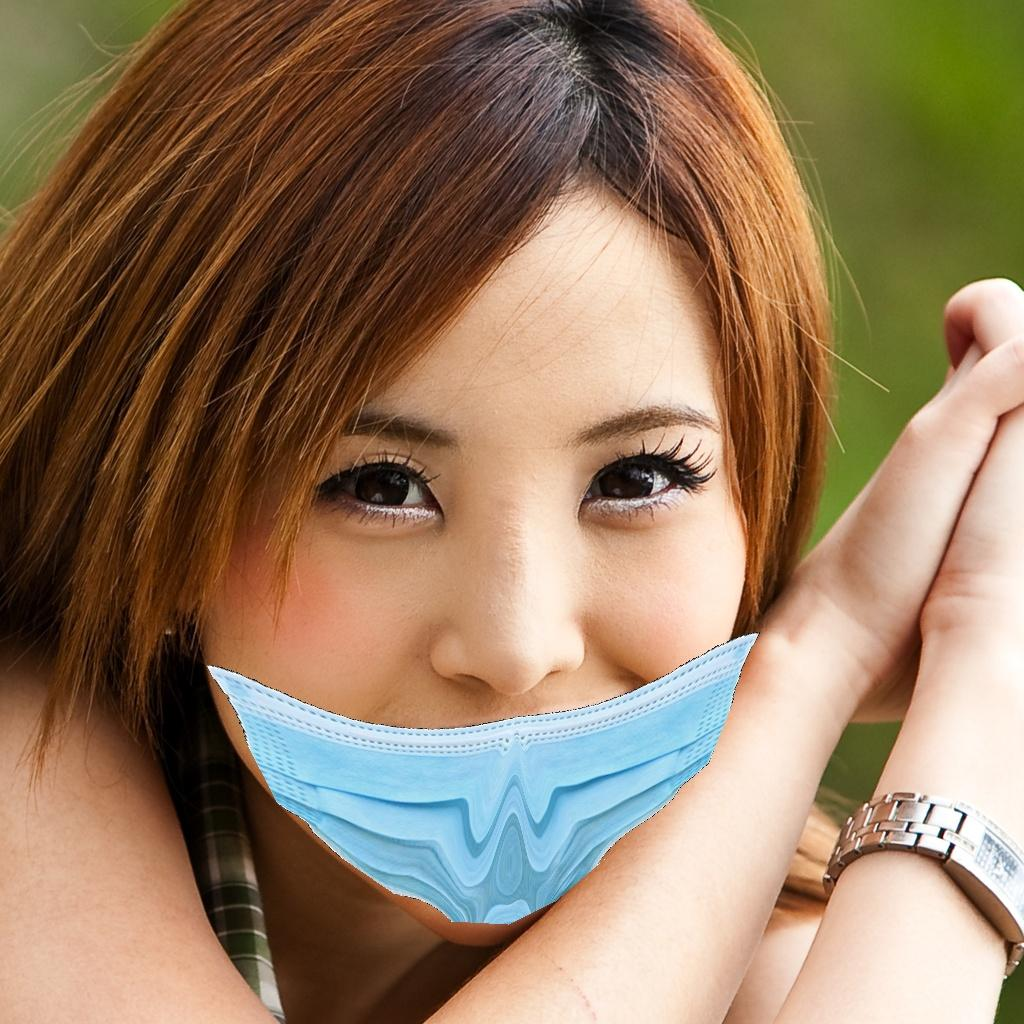Máscara Incorreta: (235, 330, 750, 915)
